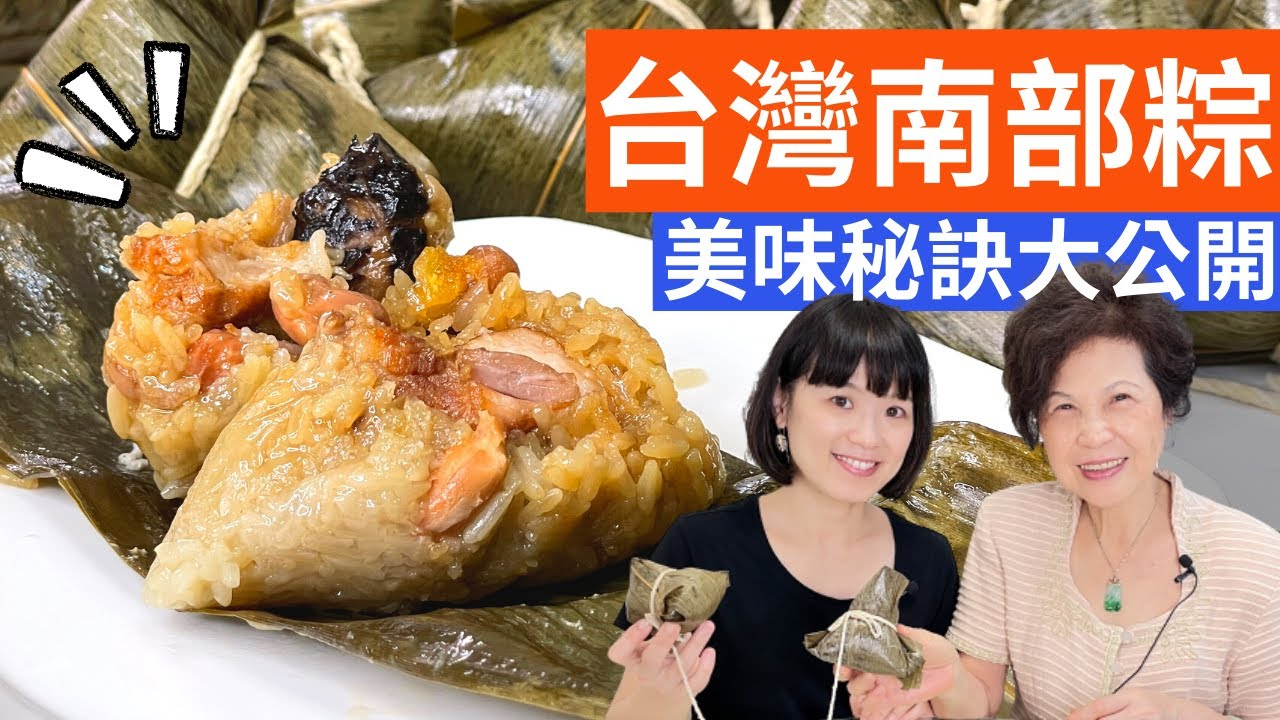zongzi: (104, 134, 724, 606), (366, 0, 676, 234)
